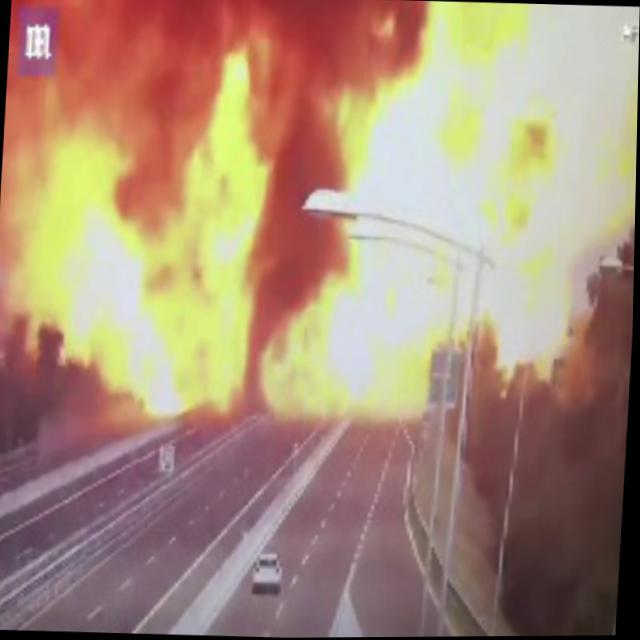fire: (468, 1, 639, 334), (0, 122, 182, 416), (172, 33, 263, 413), (326, 81, 415, 421), (404, 3, 487, 351), (250, 287, 324, 418)
smoke: (6, 0, 192, 98)
